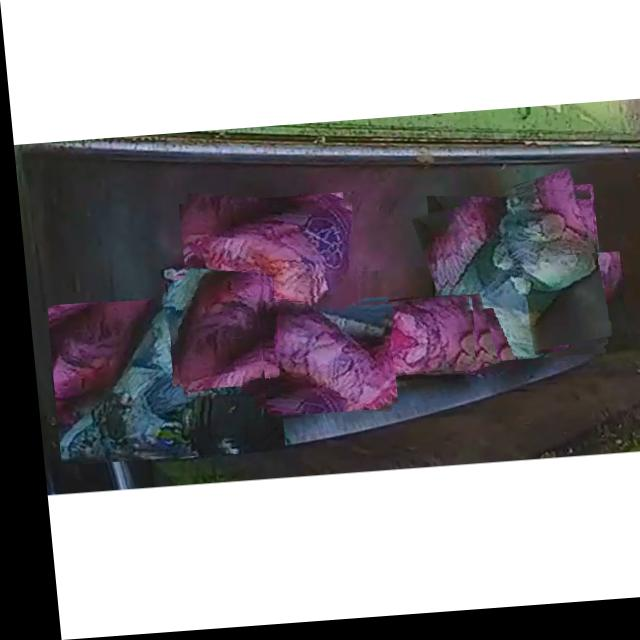general_trashbag: (52, 299, 268, 460), (441, 196, 592, 367)
other_trashbag: (182, 208, 348, 337), (252, 306, 379, 416), (174, 275, 258, 398), (524, 261, 615, 361), (366, 304, 466, 381)
